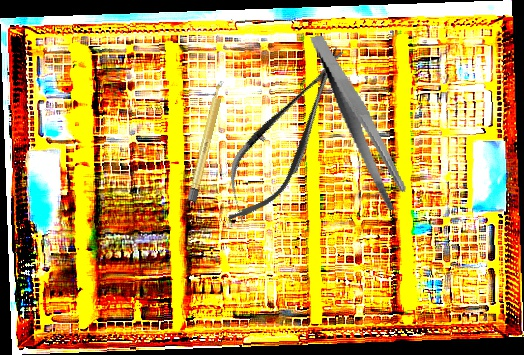Dressing Forceps: (309, 24, 410, 220)
Micro Scissor: (204, 34, 368, 236)
Scalpel Handle: (187, 79, 227, 203)
